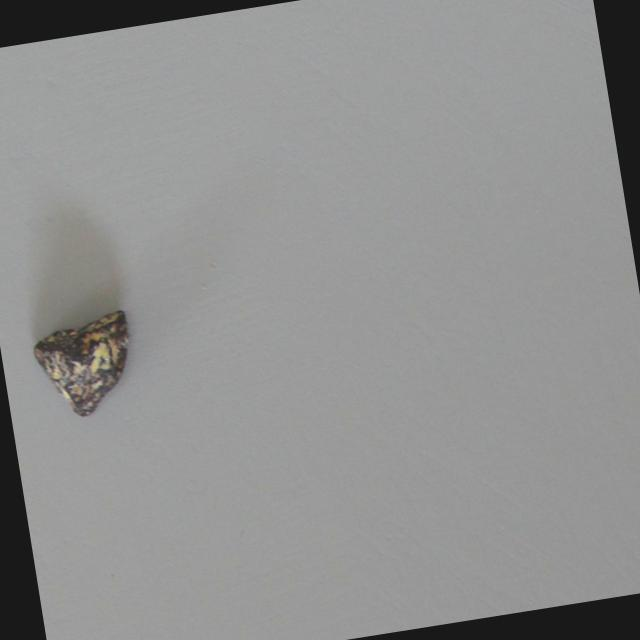cuerpos_extranos: (22, 303, 142, 440)
